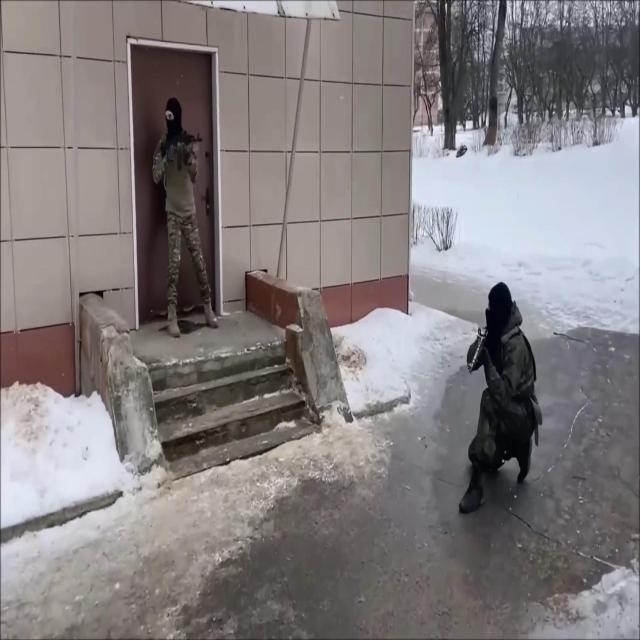gun: (460, 279, 542, 516), (152, 96, 220, 340), (161, 128, 202, 173), (466, 322, 492, 377)
